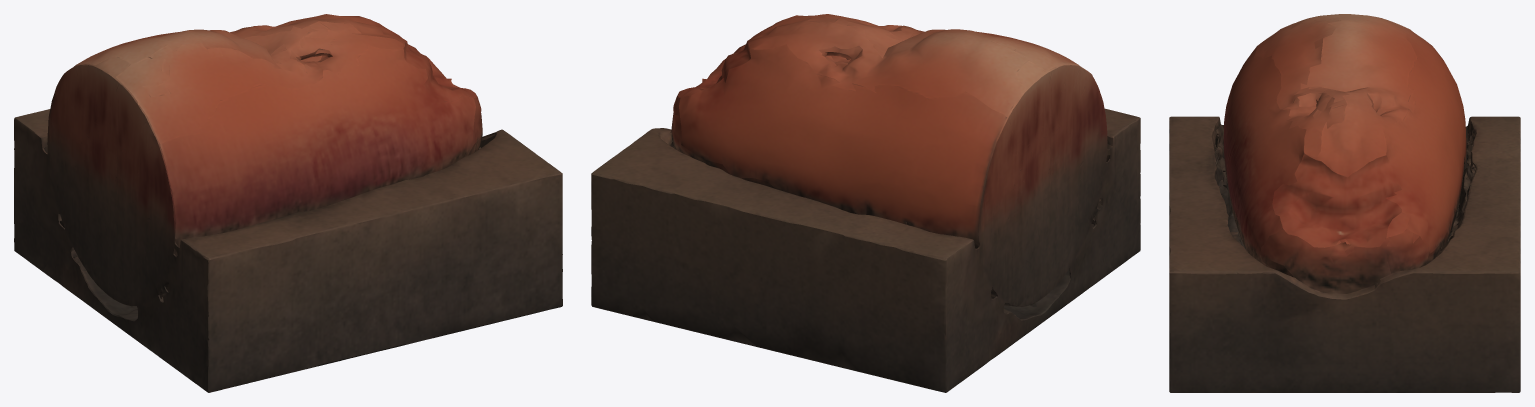
3 renders of one model, left to right at view 1: azimuth 30°, elevation 25°; view 2: azimuth 150°, elevation 25°; view 3: azimuth 270°, elevation 25°, orthographic. The views are drawn at different scales.
Parts seen in each view (by area): view 1: world; view 2: world; view 3: world.
Part boxes in pixels (box(x1,y1,x2,y2)): world: box(14, 14, 562, 392); world: box(591, 14, 1140, 392); world: box(1169, 14, 1520, 392).
Size of the model in its own units: 1.2 by 0.8598 by 1.14.
1 material, 1 textured.
